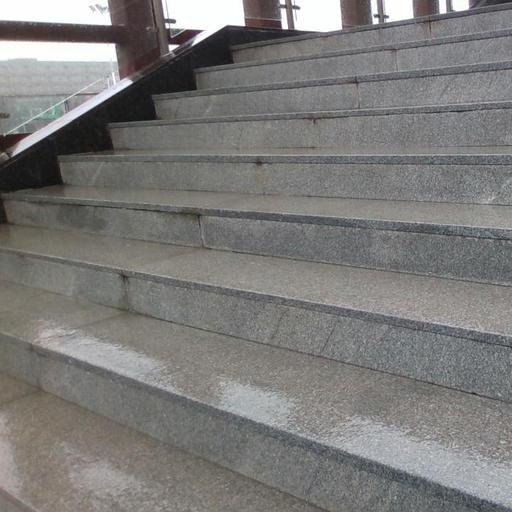stairs: (0, 6, 511, 511)
